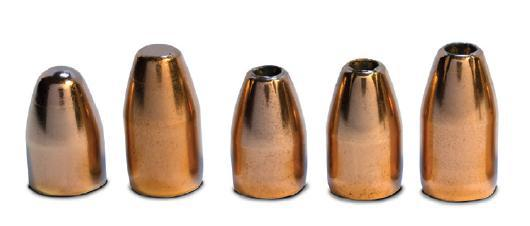Bullet: (412, 39, 511, 211), (23, 51, 111, 203), (122, 37, 204, 200), (227, 59, 318, 204), (321, 54, 406, 206)
